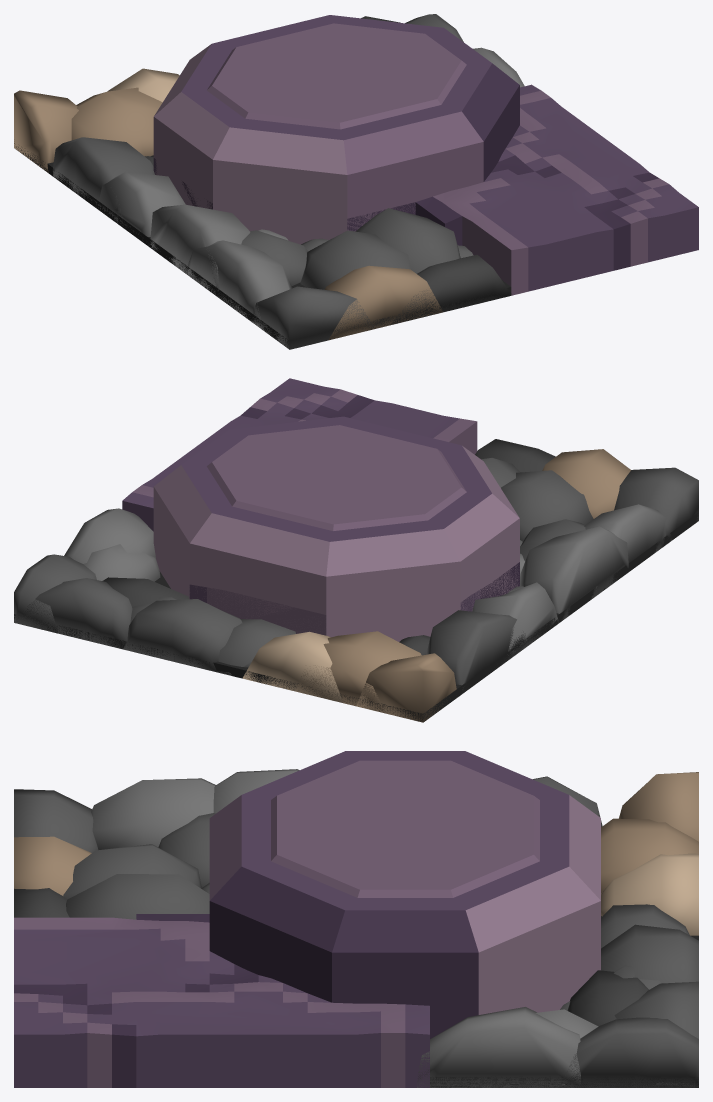
File: purple_pad_tl.glb
3 views of the same model, one above another, from view 1: azimuth 30°, elevation 25°; view 2: azimuth 150°, elevation 25°; view 3: azimuth 270°, elevation 25° (orthographic). The views are drawn at different scales.
Visible parts, largest first — view 1: purple_pad_tl_pad, purple_pad_tl_floor, purple_pad_tl_pad_panel, purple_pad_tl_rocks_6, purple_pad_tl_rocks_0, purple_pad_tl_rocks_20, purple_pad_tl_rocks_16, purple_pad_tl_rocks_1, purple_pad_tl_rocks_15, purple_pad_tl_rocks_26, purple_pad_tl_rocks_12, purple_pad_tl_rocks_13 (+5 smaller); view 2: purple_pad_tl_pad, purple_pad_tl_pad_panel, purple_pad_tl_floor, purple_pad_tl_rocks_1, purple_pad_tl_rocks_22, purple_pad_tl_rocks_24, purple_pad_tl_rocks_12, purple_pad_tl_rocks_15, purple_pad_tl_rocks_5, purple_pad_tl_rocks_16, purple_pad_tl_rocks_base, purple_pad_tl_rocks_13 (+12 smaller); view 3: purple_pad_tl_pad, purple_pad_tl_floor, purple_pad_tl_pad_panel, purple_pad_tl_rocks_8, purple_pad_tl_rocks_9, purple_pad_tl_rocks_0, purple_pad_tl_rocks_3, purple_pad_tl_rocks_5, purple_pad_tl_rocks_22, purple_pad_tl_rocks_16, purple_pad_tl_rocks_20, purple_pad_tl_rocks_12 (+11 smaller).
Part boxes in pixels (x1,y1,x2,y2): purple_pad_tl_pad: [153, 15, 519, 244]; purple_pad_tl_floor: [153, 84, 698, 295]; purple_pad_tl_pad_panel: [207, 23, 466, 129]; purple_pad_tl_rocks_6: [324, 265, 443, 340]; purple_pad_tl_rocks_0: [186, 240, 292, 329]; purple_pad_tl_rocks_20: [254, 286, 374, 349]; purple_pad_tl_rocks_16: [71, 87, 162, 156]; purple_pad_tl_rocks_1: [150, 204, 250, 293]; purple_pad_tl_rocks_15: [53, 137, 154, 226]; purple_pad_tl_rocks_26: [390, 254, 512, 325]; purple_pad_tl_rocks_12: [14, 90, 78, 172]; purple_pad_tl_rocks_13: [300, 230, 411, 289]; purple_pad_tl_pad: [153, 416, 519, 641]; purple_pad_tl_pad_panel: [207, 425, 466, 530]; purple_pad_tl_floor: [122, 378, 519, 635]; purple_pad_tl_rocks_1: [520, 526, 628, 621]; purple_pad_tl_rocks_22: [123, 599, 242, 671]; purple_pad_tl_rocks_24: [14, 578, 132, 649]; purple_pad_tl_rocks_12: [356, 653, 456, 722]; purple_pad_tl_rocks_15: [426, 610, 533, 693]; purple_pad_tl_rocks_5: [242, 631, 343, 702]; purple_pad_tl_rocks_16: [295, 631, 421, 712]; purple_pad_tl_rocks_base: [14, 513, 698, 722]; purple_pad_tl_rocks_13: [501, 470, 593, 541]; purple_pad_tl_pad: [209, 751, 600, 1035]; purple_pad_tl_floor: [14, 914, 478, 1087]; purple_pad_tl_pad_panel: [271, 760, 539, 897]; purple_pad_tl_rocks_8: [417, 1007, 580, 1087]; purple_pad_tl_rocks_9: [561, 1017, 698, 1087]; purple_pad_tl_rocks_0: [91, 778, 215, 849]; purple_pad_tl_rocks_3: [66, 874, 209, 919]; purple_pad_tl_rocks_5: [601, 853, 698, 935]; purple_pad_tl_rocks_22: [601, 924, 698, 983]; purple_pad_tl_rocks_16: [601, 818, 698, 892]; purple_pad_tl_rocks_20: [14, 789, 98, 852]; purple_pad_tl_rocks_12: [619, 772, 698, 841].
Bounding box in the file's own units: 24 × 6.25 × 28.
